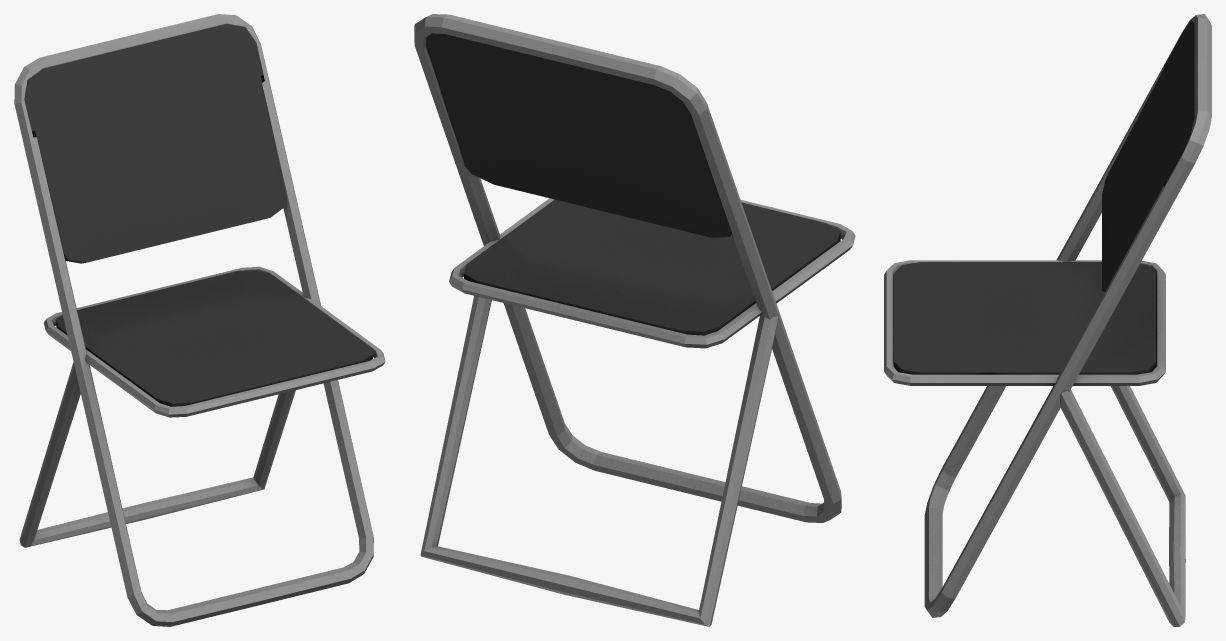
File: chair.gltf
3 renders of one model, left to right at view 1: azimuth 30°, elevation 25°; view 2: azimuth 150°, elevation 25°; view 3: azimuth 270°, elevation 25°, orthographic. The views are drawn at different scales.
Visible parts, largest first — view 1: Plane; view 2: Plane; view 3: Plane.
Boxes of the visible parts, x1,y1,x2,y2 form: Plane: (14, 14, 385, 626); Plane: (414, 14, 855, 626); Plane: (884, 14, 1211, 626).
Bounding box in the file's own units: 2.31 × 4.24 × 2.5.
2 materials, 2 textured.
